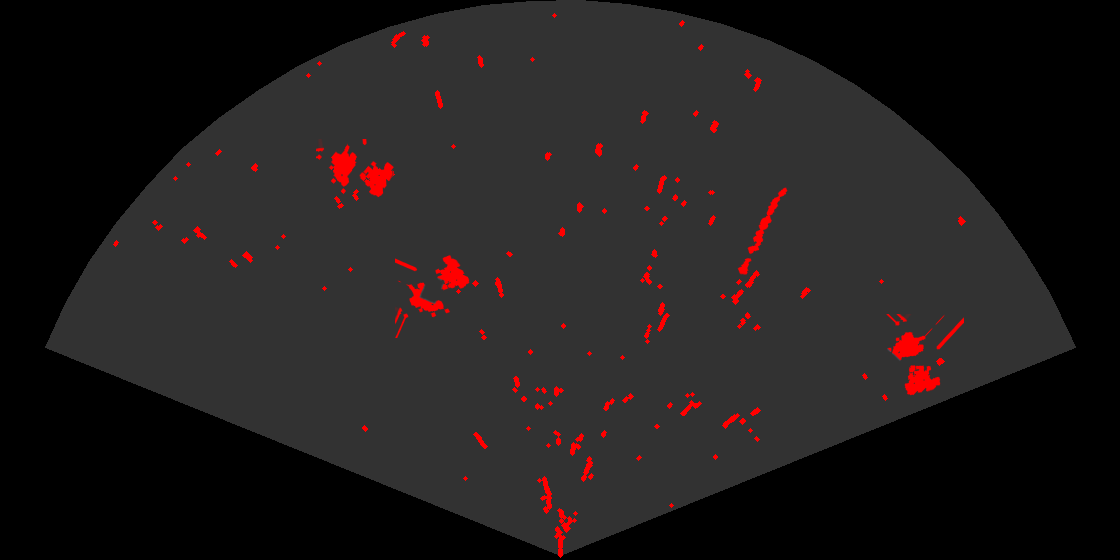cage: (885, 314, 964, 397), (395, 253, 471, 338), (316, 139, 395, 199)
chain: (736, 186, 789, 277)
